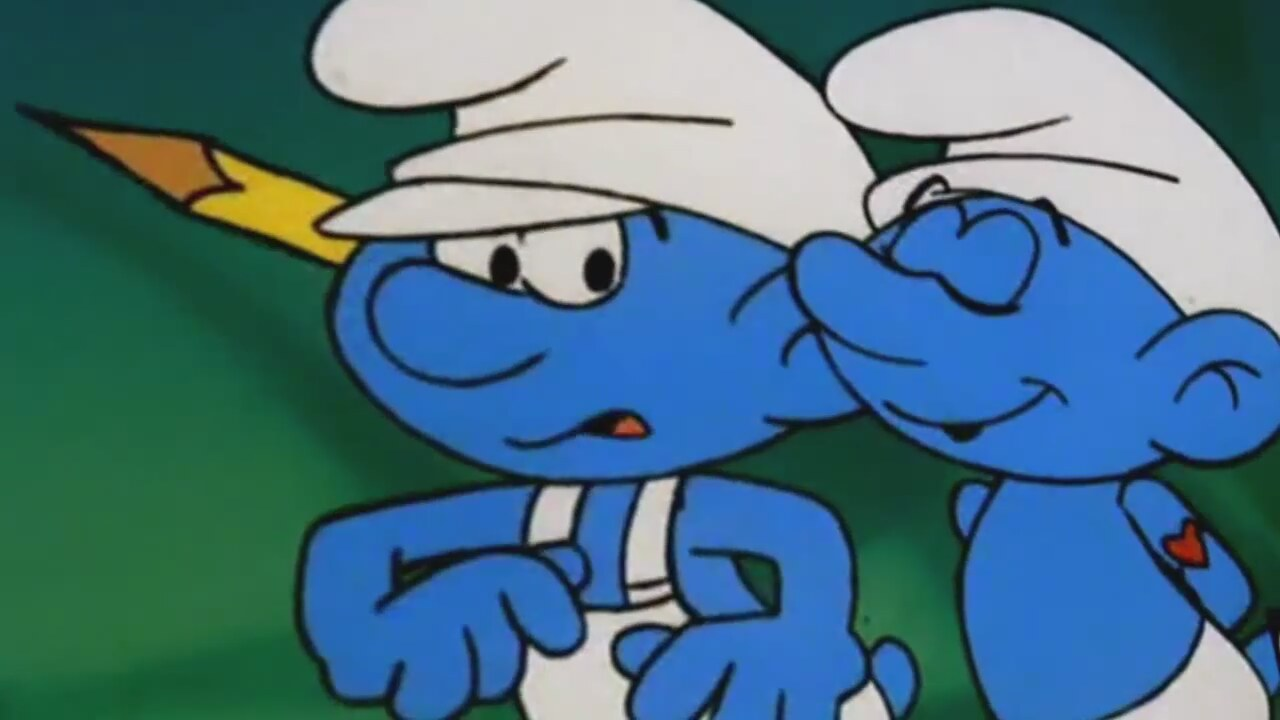smurf: (283, 1, 918, 720), (833, 6, 1274, 718)
